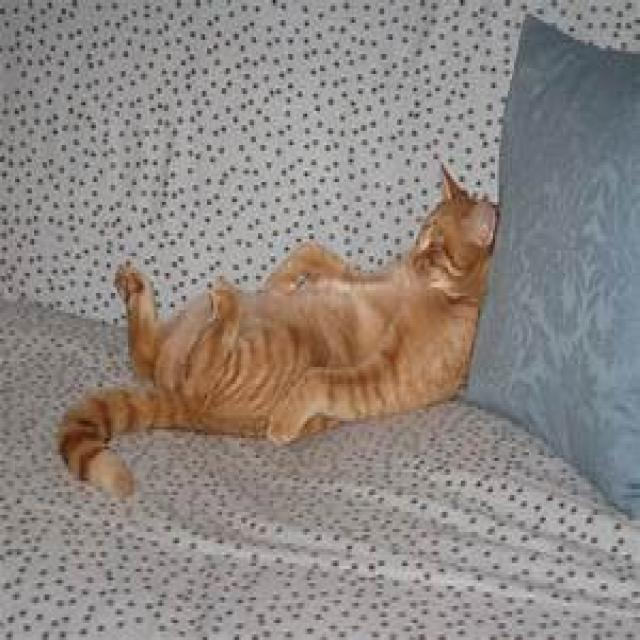cat: (56, 159, 499, 501)
